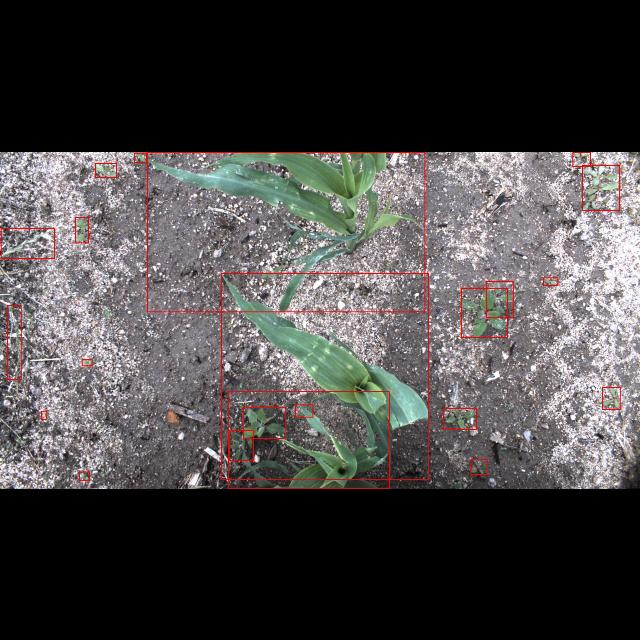crop: (147, 151, 425, 311), (222, 272, 428, 480), (228, 392, 390, 488)
weed: (461, 287, 507, 337), (582, 164, 620, 210), (1, 228, 55, 258), (243, 408, 285, 438), (7, 305, 21, 379), (486, 281, 514, 317), (229, 430, 253, 460), (444, 408, 476, 428), (602, 387, 620, 409), (75, 216, 88, 242), (95, 162, 116, 176), (573, 152, 591, 166), (471, 460, 487, 474), (296, 404, 312, 416), (134, 152, 146, 162), (544, 277, 558, 285), (79, 472, 89, 481), (82, 359, 92, 365), (42, 410, 46, 420)
